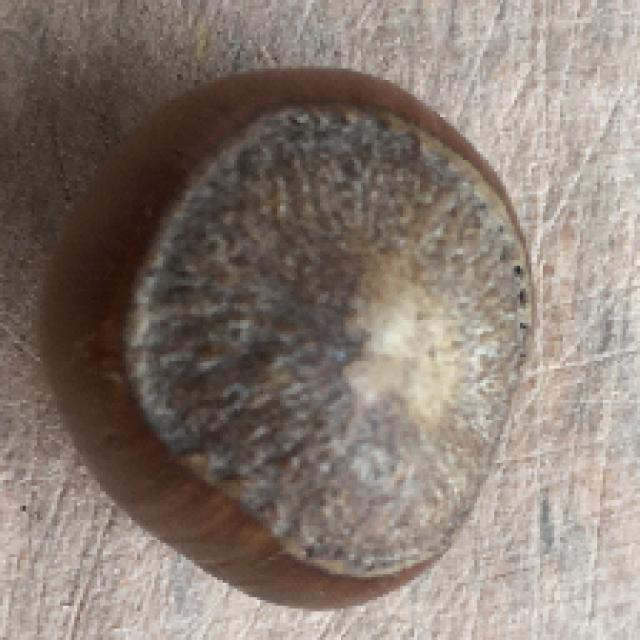qualityHazelnut: (59, 60, 535, 613)
